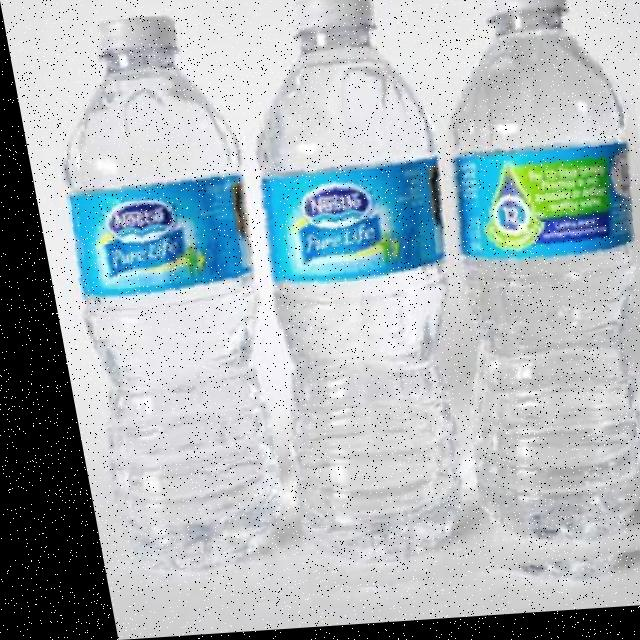plasticbottle: (1, 0, 640, 624), (201, 0, 558, 613), (1, 0, 357, 599), (370, 0, 640, 616)
plasticbottlecap: (24, 0, 260, 136), (471, 0, 621, 90), (265, 0, 390, 95)
